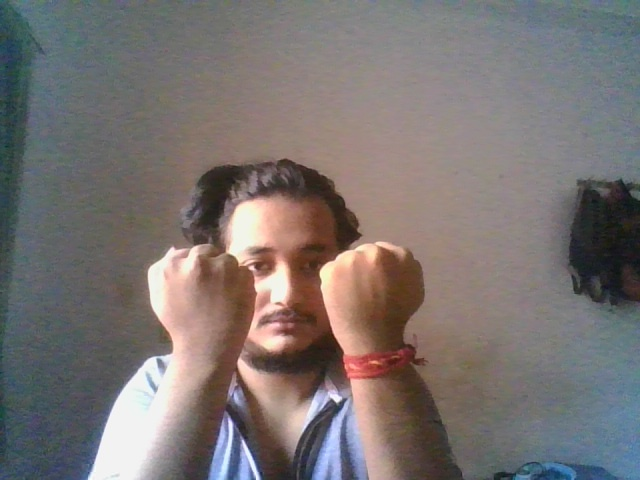Close: (145, 242, 258, 351), (317, 240, 426, 328)
